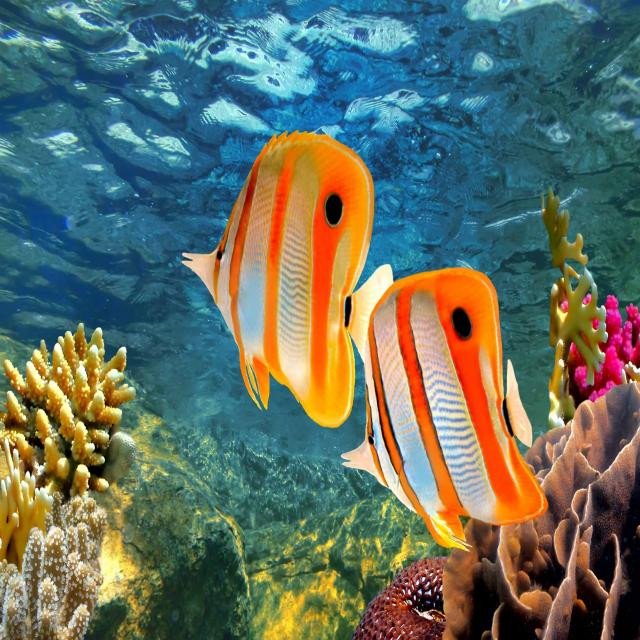ButterflyFish: (183, 131, 392, 422), (340, 268, 545, 550)
